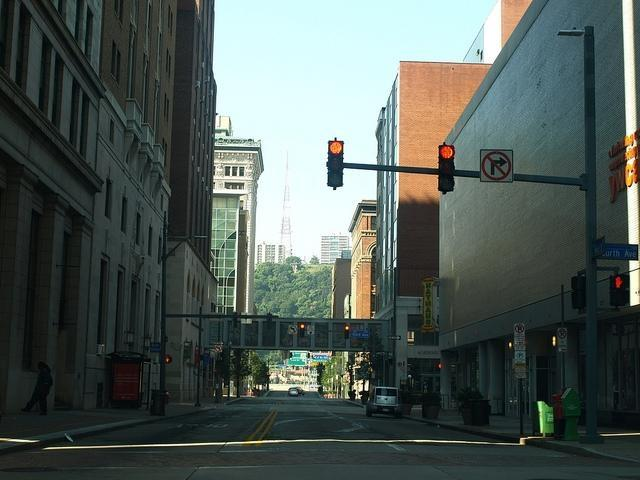car: (366, 386, 404, 418), (288, 388, 299, 395)
truck: (365, 386, 405, 418)
